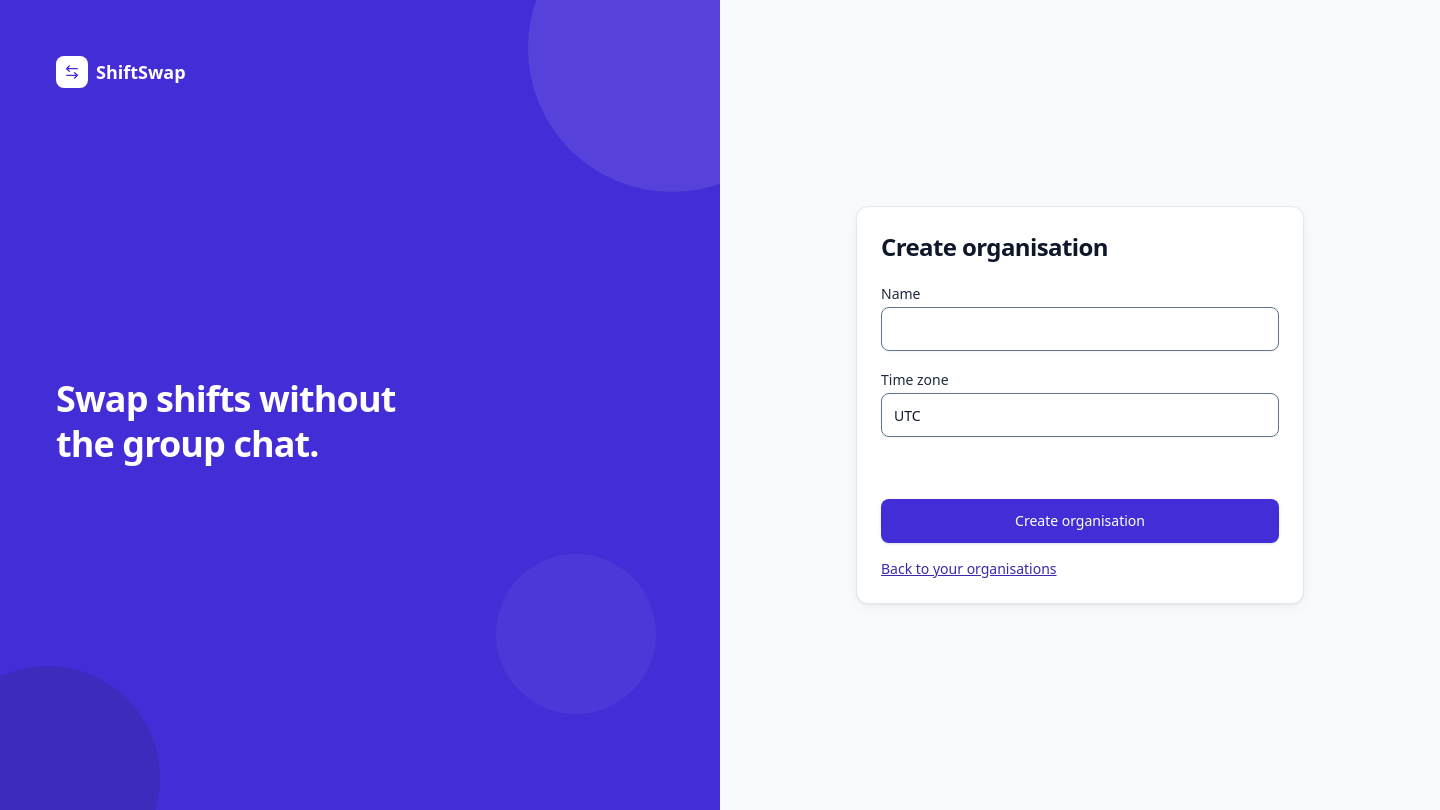
Scenario: CreateOrgPage › shows the server error
The image size is (1440, 810).
In the field labelled "Name": {"x": 1080, "y": 329} [881, 307, 1279, 351], type "X"
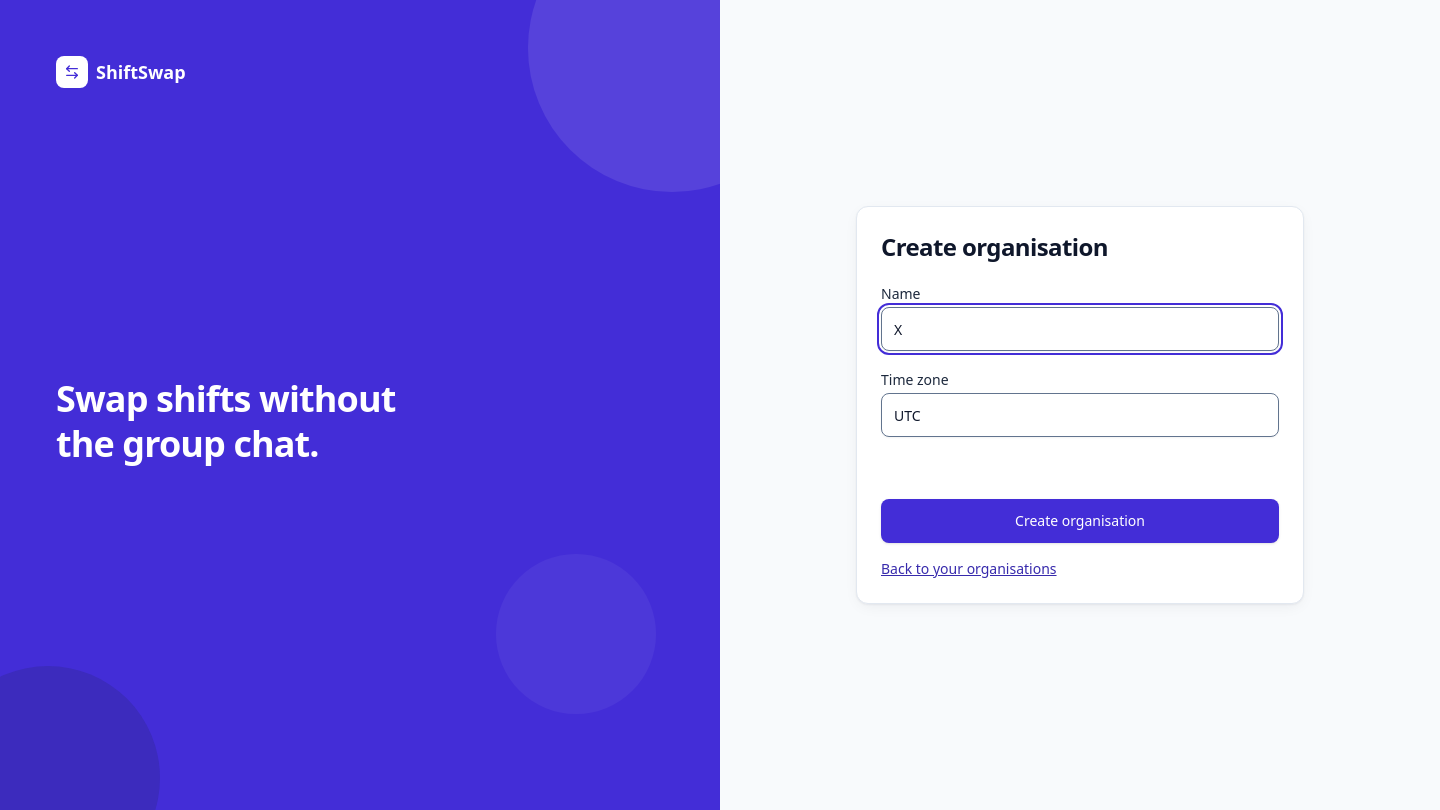
Click the button "Create organisation": {"x": 1080, "y": 521} [881, 499, 1279, 543]
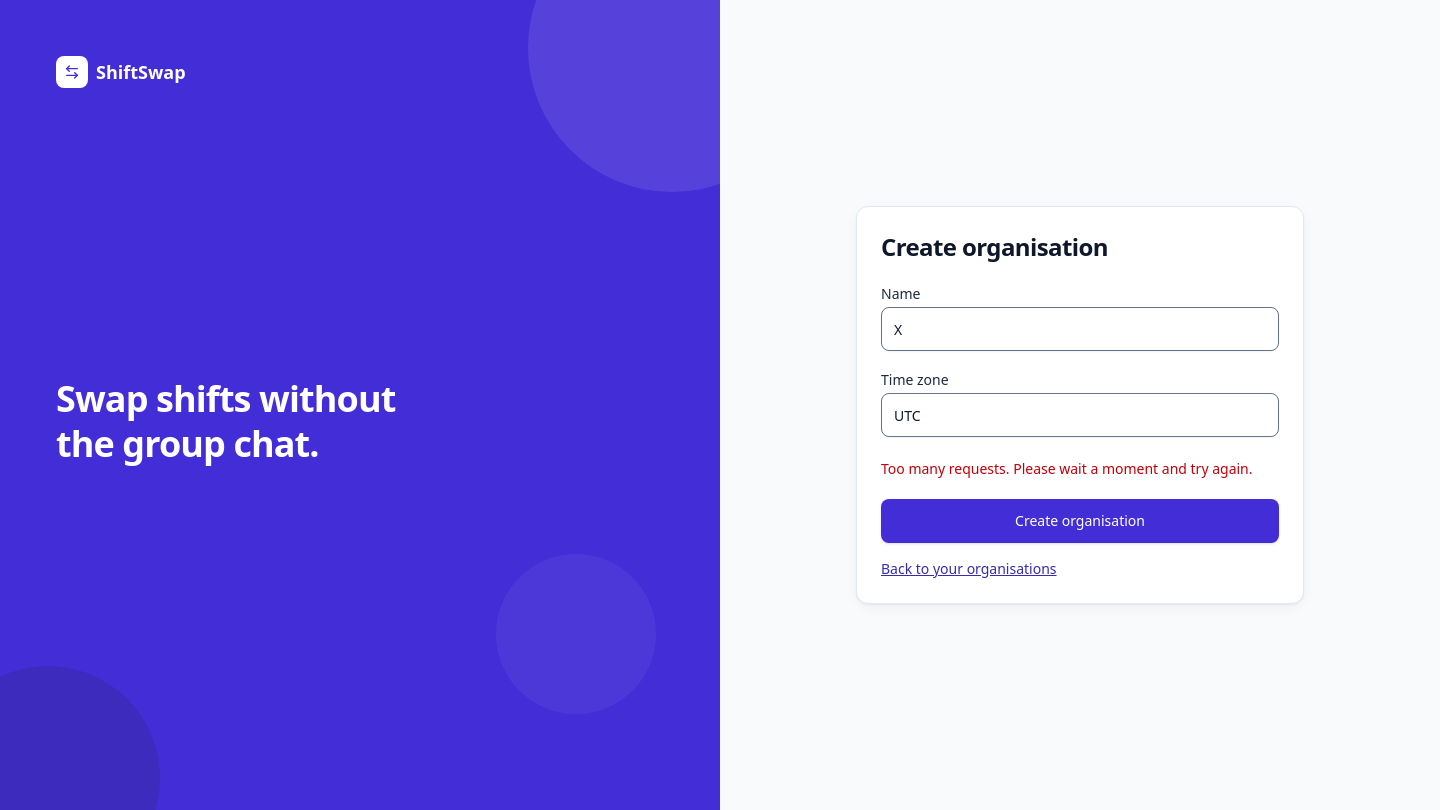
Result: the message shows "Too many requests." at [881, 459, 1252, 478]
